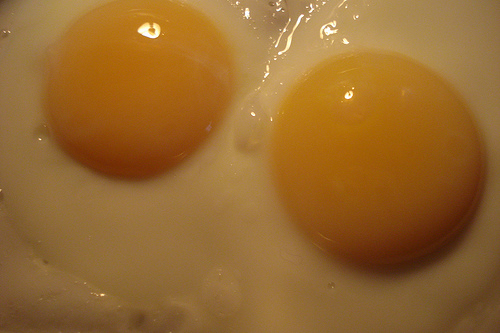egg: (0, 0, 489, 332)
